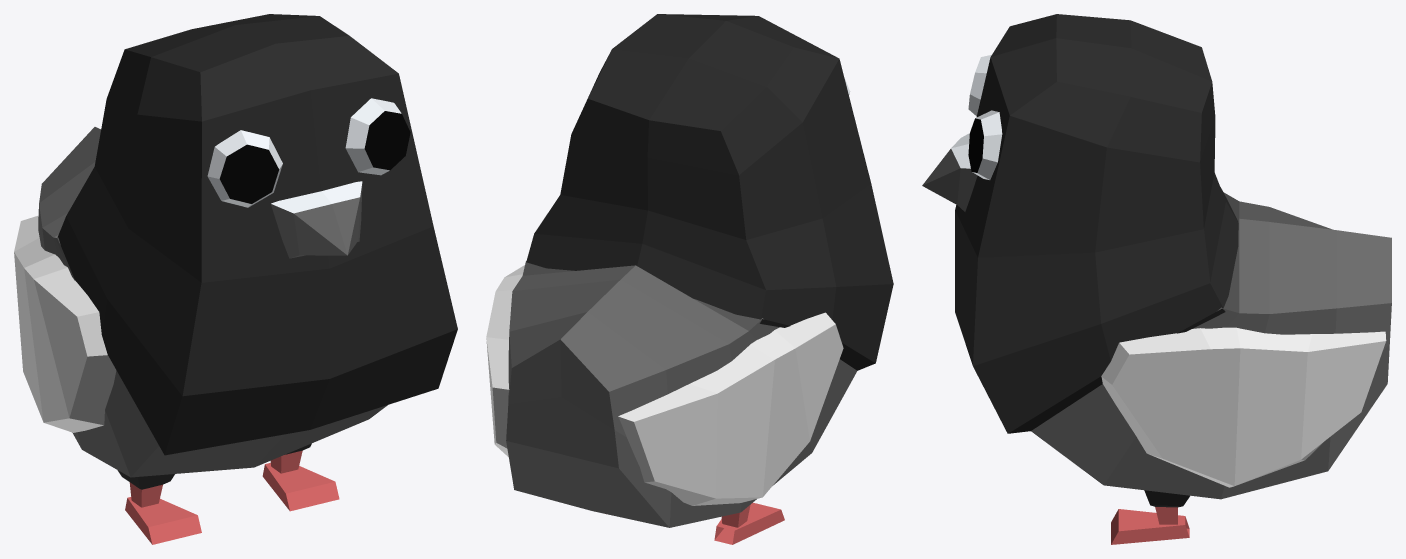
The model's file is Pidgeon.fbx.
3 views of the same model, side by side, from view 1: azimuth 30°, elevation 25°; view 2: azimuth 150°, elevation 25°; view 3: azimuth 270°, elevation 25° (orthographic). The views are drawn at different scales.
Visible parts, largest first — view 1: PidegeonHead, PidgeonWingRight, PidgeonBody, PidgeonLegRight, PidgeonLegLeft; view 2: PidegeonHead, PidgeonBody, PidgeonWingRight, PidgeonWingLeft, PidgeonLegRight; view 3: PidegeonHead, PidgeonWingLeft, PidgeonBody, PidgeonLegLeft.
Boxes of the visible parts, left/top/right/bottom form: PidegeonHead: left=56, top=14, right=457, bottom=455; PidgeonWingRight: left=14, top=215, right=116, bottom=432; PidgeonBody: left=38, top=127, right=387, bottom=477; PidgeonLegRight: left=117, top=470, right=201, bottom=544; PidgeonLegLeft: left=262, top=443, right=339, bottom=511; PidegeonHead: left=526, top=14, right=893, bottom=370; PidgeonBody: left=506, top=261, right=856, bottom=527; PidgeonWingRight: left=618, top=312, right=843, bottom=505; PidgeonWingLeft: left=486, top=265, right=524, bottom=457; PidgeonLegRight: left=714, top=502, right=784, bottom=544; PidegeonHead: left=922, top=14, right=1238, bottom=433; PidgeonWingLeft: left=1101, top=327, right=1386, bottom=487; PidgeonBody: left=1031, top=192, right=1391, bottom=499; PidgeonLegLeft: left=1111, top=490, right=1189, bottom=544.
Bounding box in the file's own units: 94.5 × 142 × 130.
